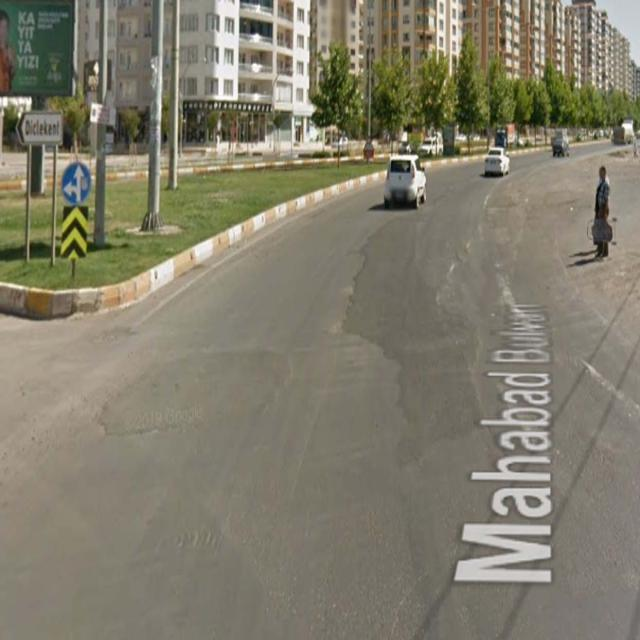ilerisol: (60, 164, 92, 206)
